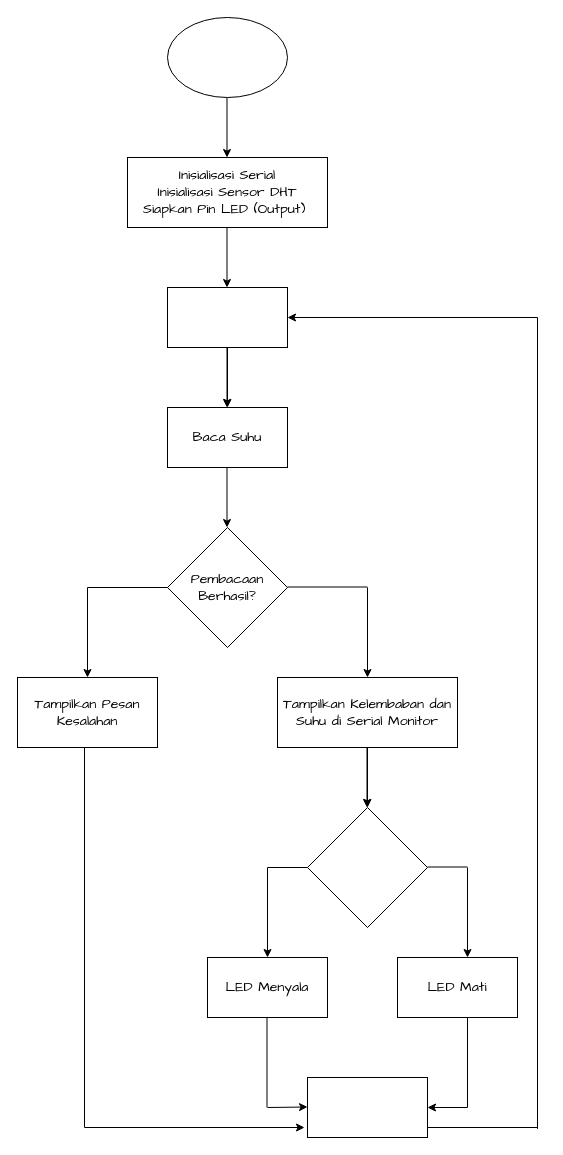
This 563x1155 diagram has some shape labels left out. The shapes that lost their labels are listed below. From the top down, each one's centre as x and y in pixels, then its label:
the point at 227,57: Mulai
the point at 227,317: Baca Kelembaban
the point at 367,867: Suhu >= 27 C
the point at 367,1107: Tunggu 2 detik
